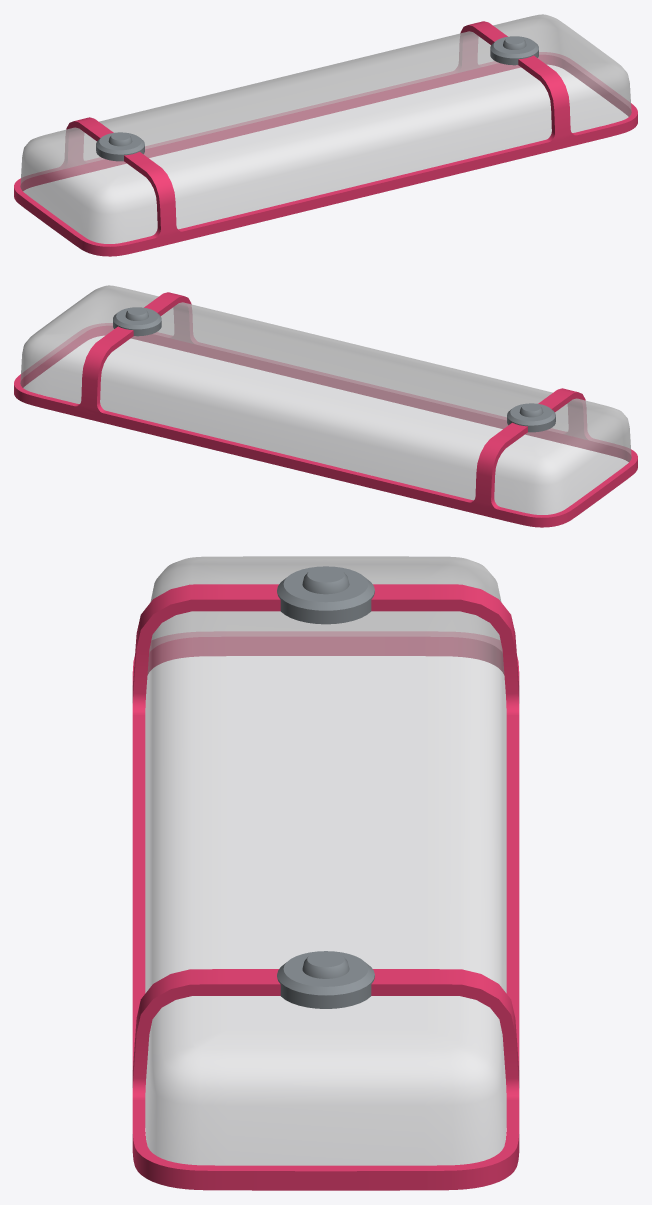
The model's file is hop_l_3.fbx.
3 renders of one model, top to bottom at view 1: azimuth 30°, elevation 25°; view 2: azimuth 150°, elevation 25°; view 3: azimuth 270°, elevation 25°, orthographic. The views are drawn at different scales.
Visible parts, largest first — view 1: Cube.134, Cube.138, Cylinder.069, Cylinder.074; view 2: Cube.134, Cube.138, Cylinder.069, Cylinder.074; view 3: Cube.134, Cube.138, Cylinder.069, Cylinder.074.
Boxes of the visible parts, x1=… form: Cube.134: x1=20, y1=14, x2=631, y2=243; Cube.138: x1=14, y1=21, x2=637, y2=256; Cylinder.069: x1=96, y1=132, x2=144, y2=161; Cylinder.074: x1=490, y1=36, x2=538, y2=65; Cube.134: x1=20, y1=285, x2=631, y2=514; Cube.138: x1=14, y1=292, x2=637, y2=527; Cylinder.069: x1=507, y1=403, x2=555, y2=432; Cylinder.074: x1=113, y1=307, x2=161, y2=336; Cube.134: x1=145, y1=556, x2=506, y2=1165; Cube.138: x1=132, y1=584, x2=519, y2=1190; Cylinder.069: x1=277, y1=566, x2=374, y2=624; Cylinder.074: x1=277, y1=951, x2=374, y2=1008.
Bounding box in the file's own units: 597 × 75 × 181.
